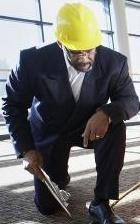boots: (87, 199, 123, 224), (1, 1, 1, 1)
hard-hat: (54, 0, 102, 50)
vest: (1, 1, 1, 1)
